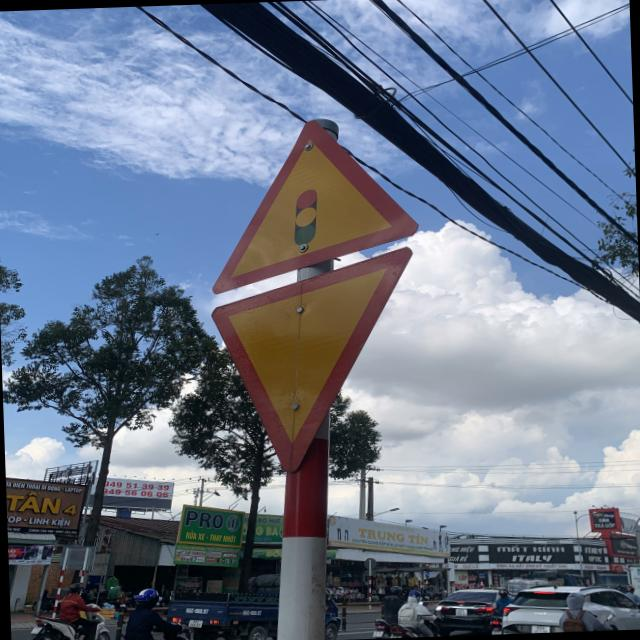Duong_Co_Go_Giam_Toc: (205, 114, 418, 294)
Gioi_Han_Toc_Do_25: (206, 242, 416, 478)
